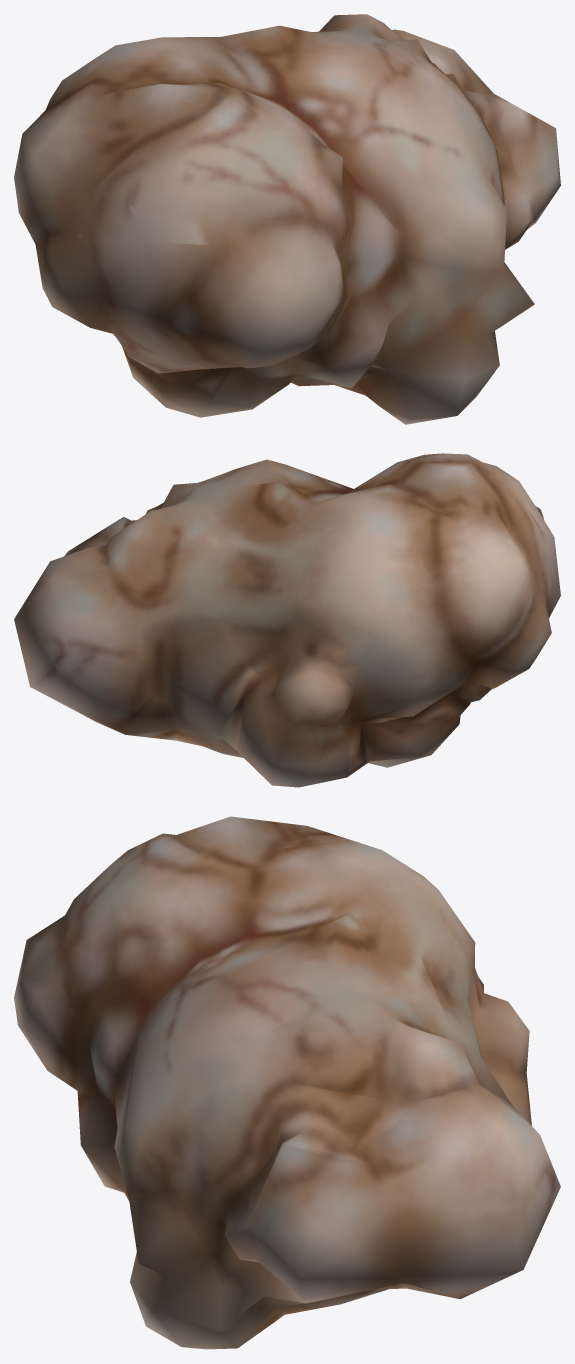
Rendered from banshira_growth_02.fbx.
The picture shows the model from 3 angles, top to bottom: view 1: azimuth 30°, elevation 25°; view 2: azimuth 150°, elevation 25°; view 3: azimuth 270°, elevation 25°; orthographic projection. The views are drawn at different scales.
Parts seen in each view (by area): view 1: Banshira_Growth_02; view 2: Banshira_Growth_02; view 3: Banshira_Growth_02.
Part boxes in pixels (left/top/right/bottom): Banshira_Growth_02: left=14, top=14, right=560, bottom=424; Banshira_Growth_02: left=14, top=453, right=560, bottom=787; Banshira_Growth_02: left=14, top=816, right=560, bottom=1349.
Bounding box in the file's own units: 138 × 94.69 × 116.
